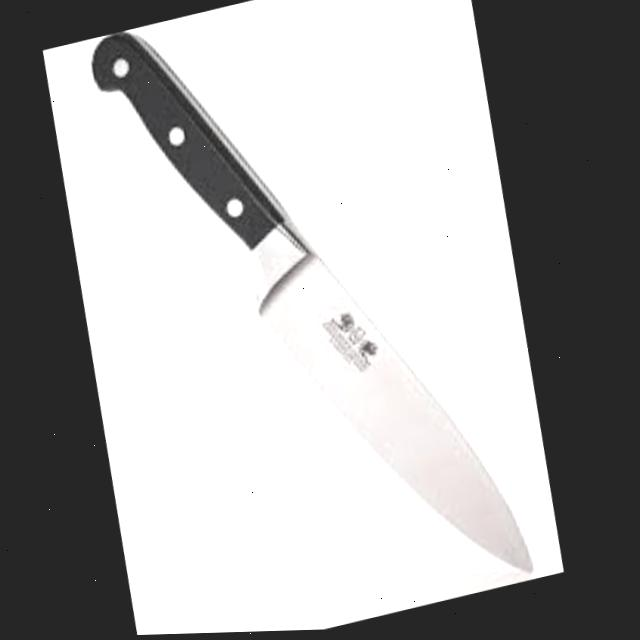Knife: (64, 0, 567, 638)
